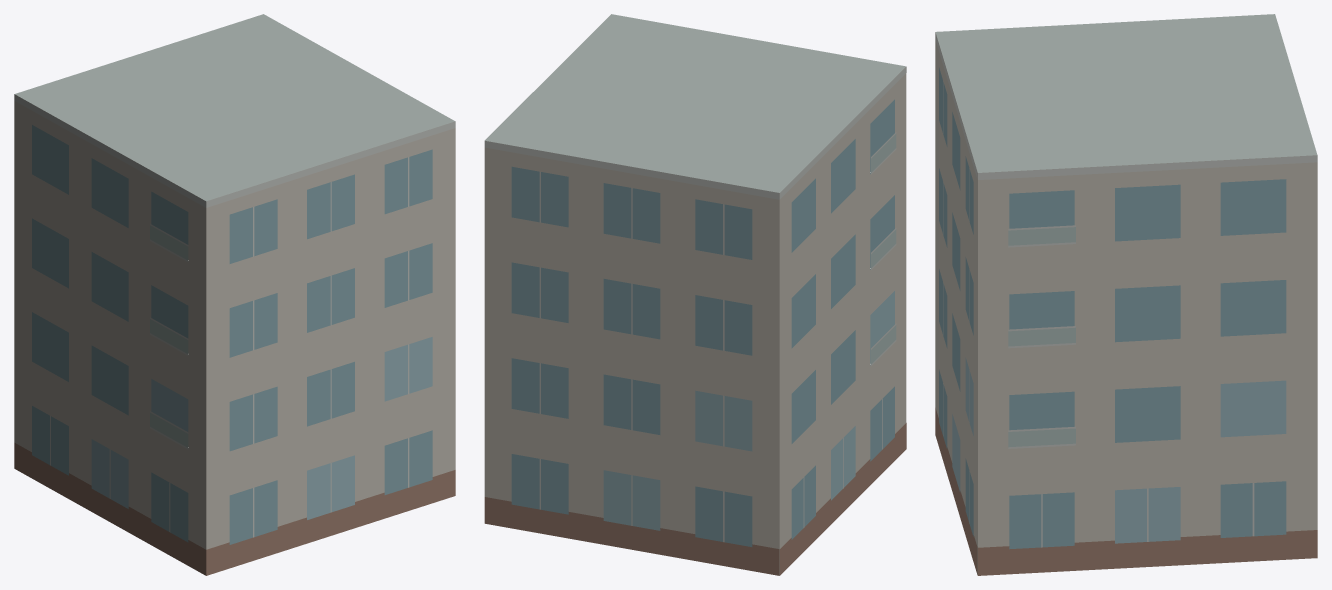
Rendered from survey-upis-32549839.glb.
3 renders of one model, left to right at view 1: azimuth 30°, elevation 25°; view 2: azimuth 150°, elevation 25°; view 3: azimuth 270°, elevation 25°, orthographic. The views are drawn at different scales.
Visible parts, largest first — view 1: survey-upis-32549839.tmp; view 2: survey-upis-32549839.tmp; view 3: survey-upis-32549839.tmp.
Part boxes in pixels (x1,y1,x2,y2): survey-upis-32549839.tmp: [14, 14, 455, 575]; survey-upis-32549839.tmp: [484, 14, 906, 575]; survey-upis-32549839.tmp: [935, 14, 1317, 575].
Bounding box in the file's own units: 11.69 × 13.8 × 11.87.
